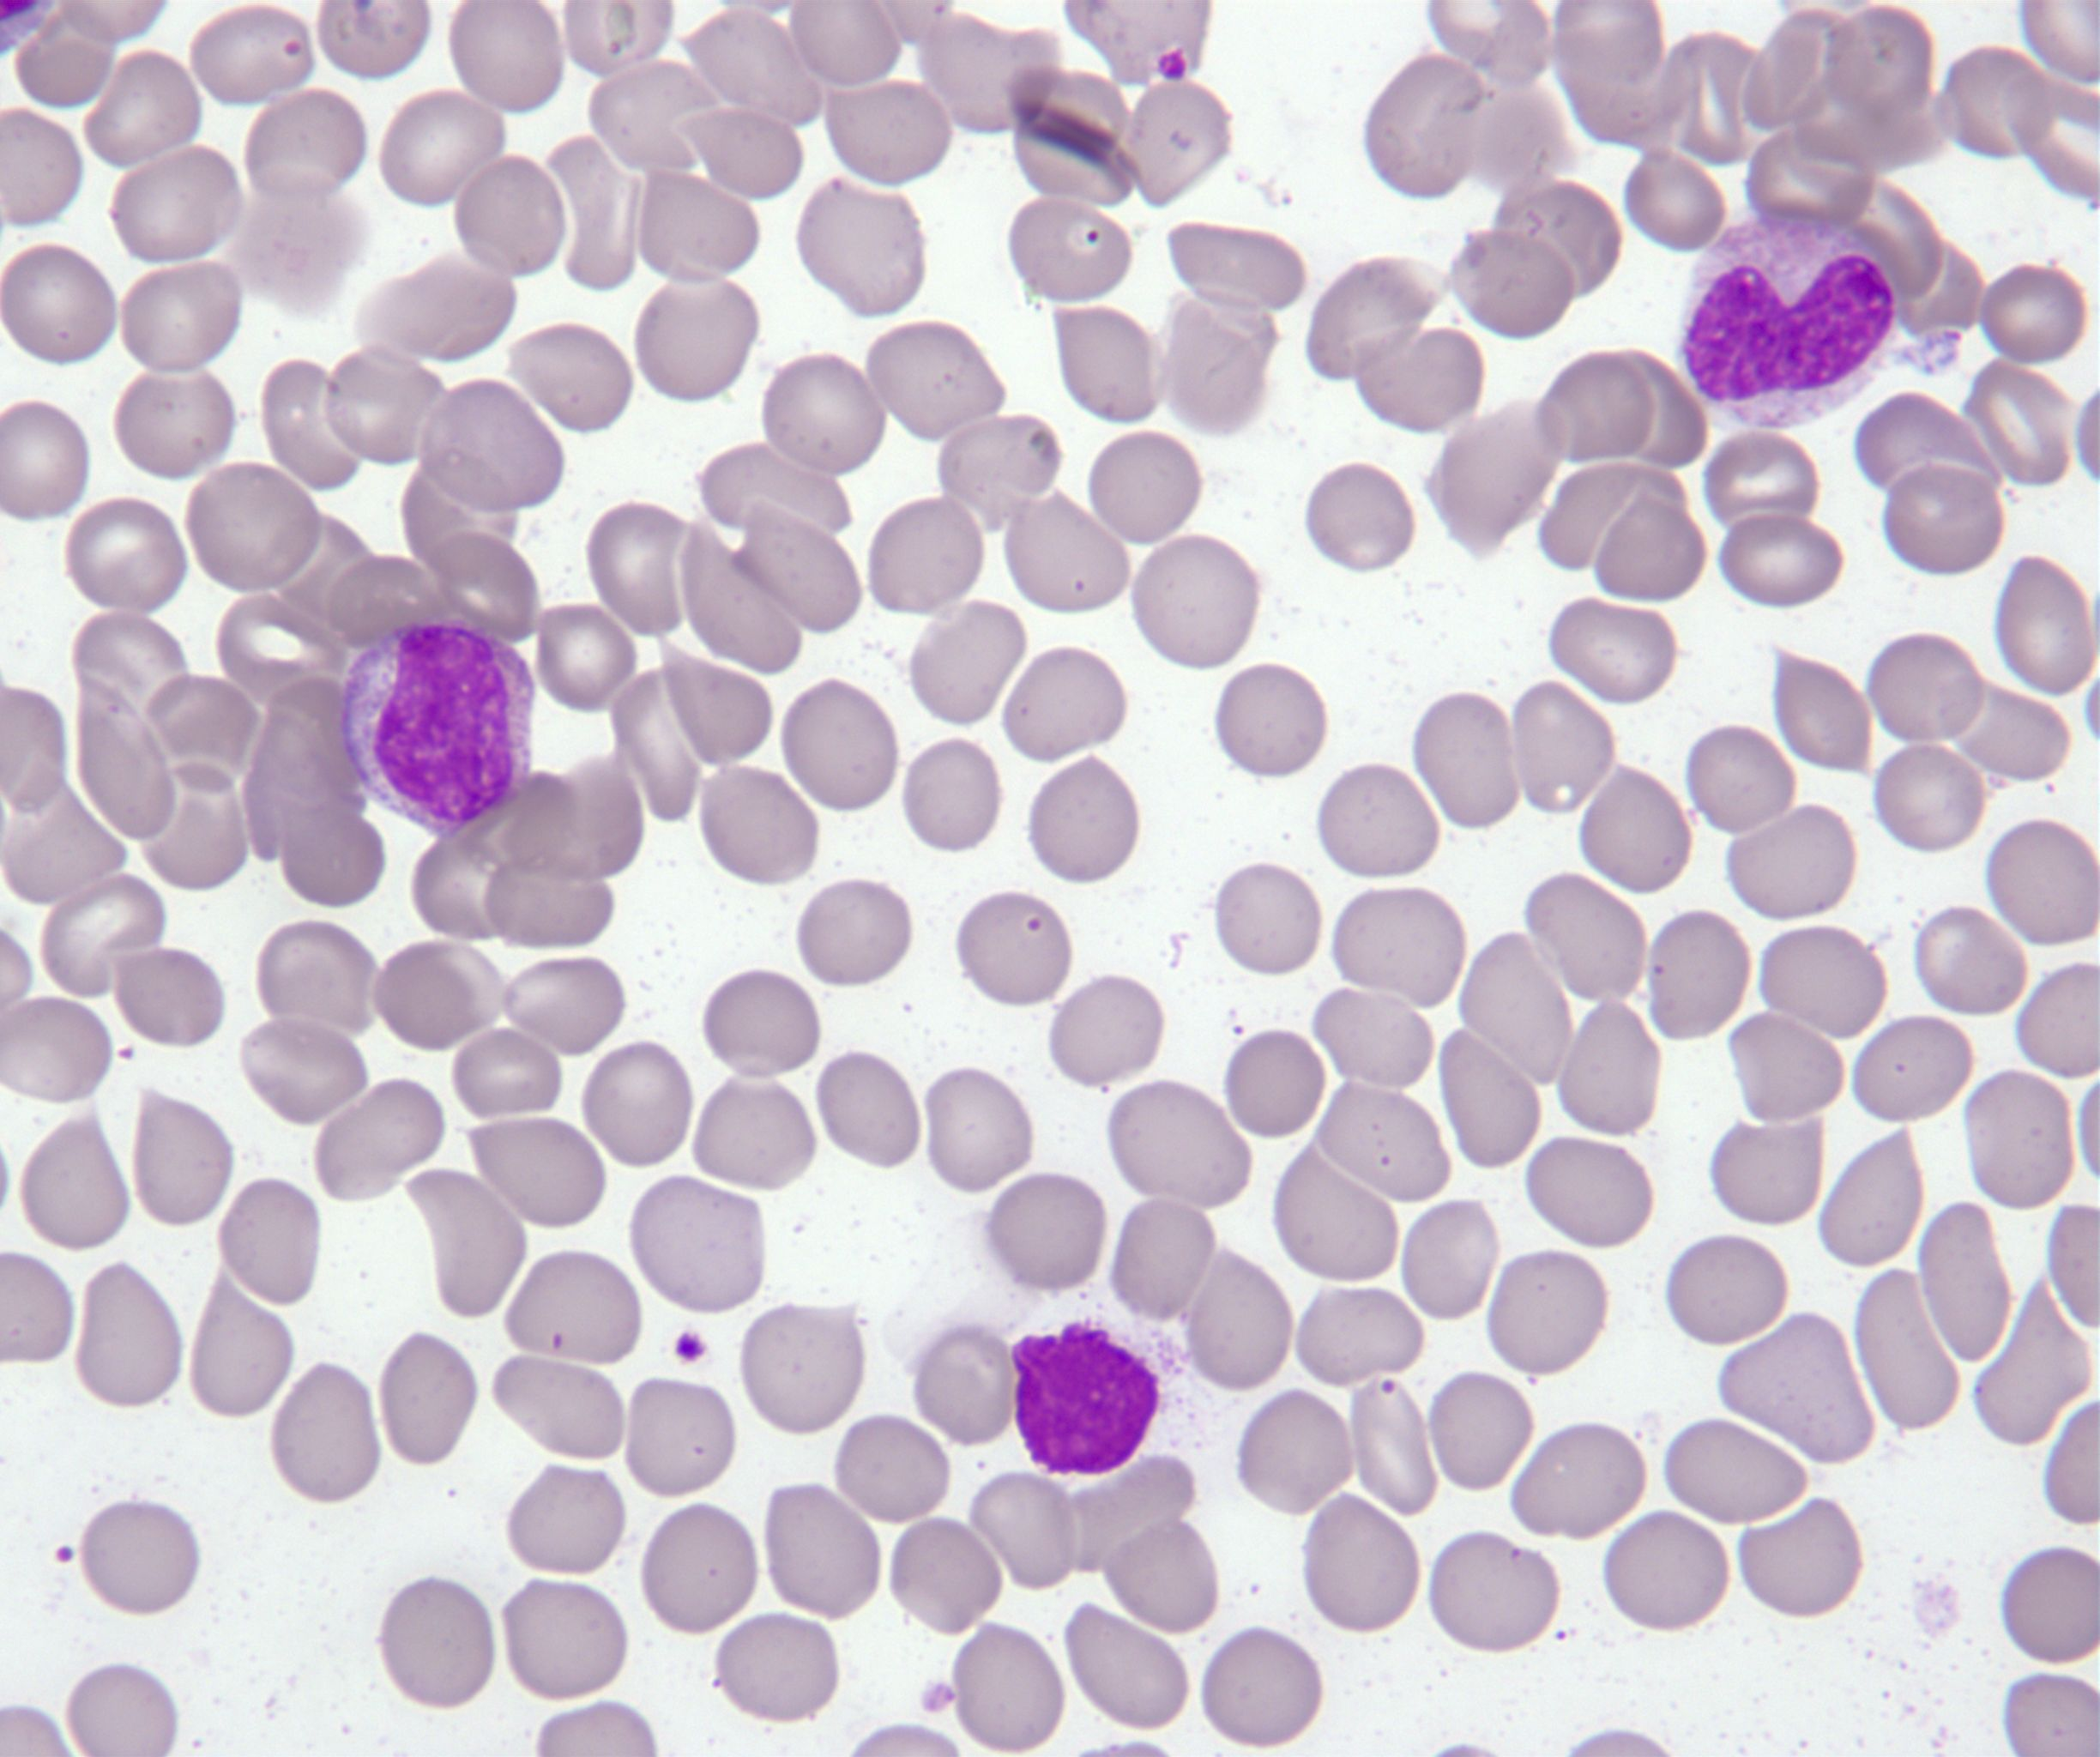3: (337, 619, 539, 841)
4: (1676, 209, 1903, 438)
x: (1006, 1317, 1162, 1480)
